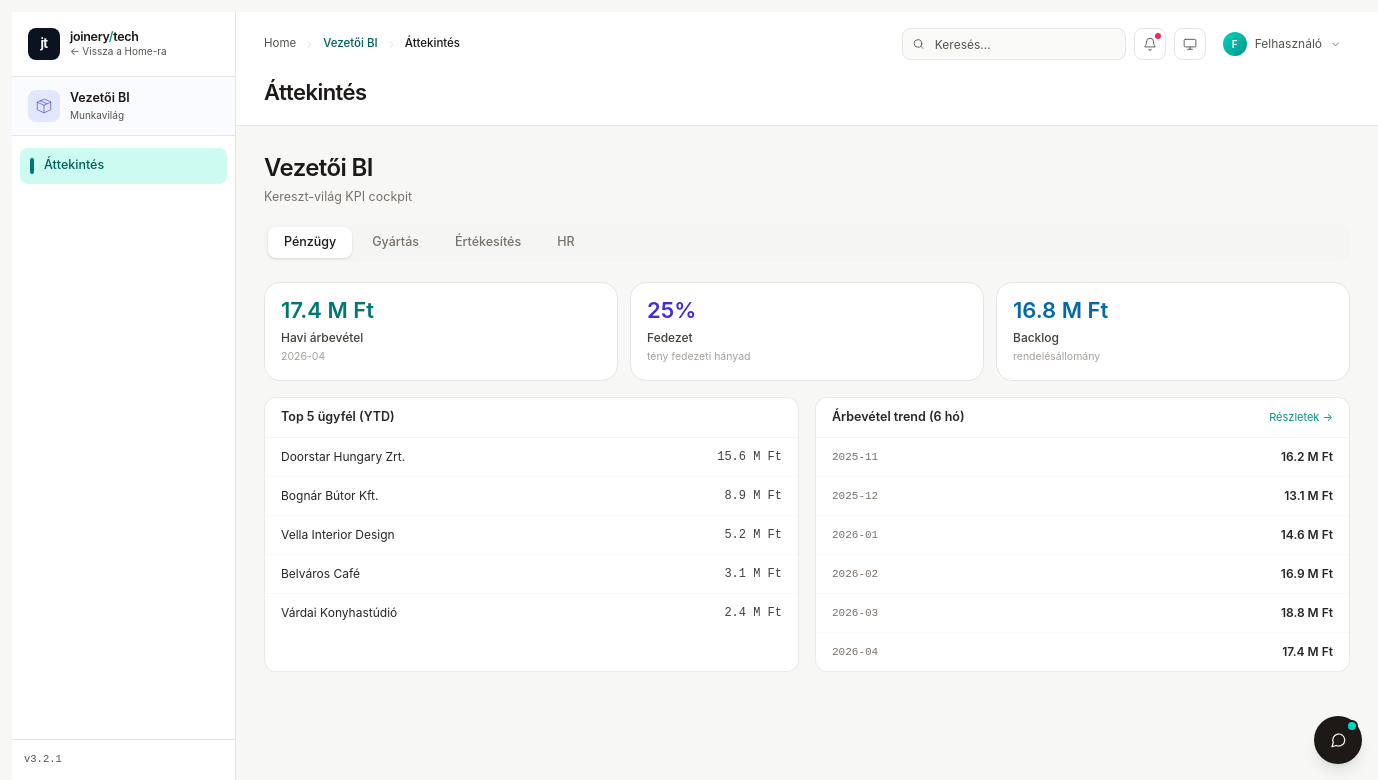
Scenario: ExecBiPage › clicking production tab renders production content
Click the button "Gyártás". click: (396, 242)
box: [356,227,435,258]
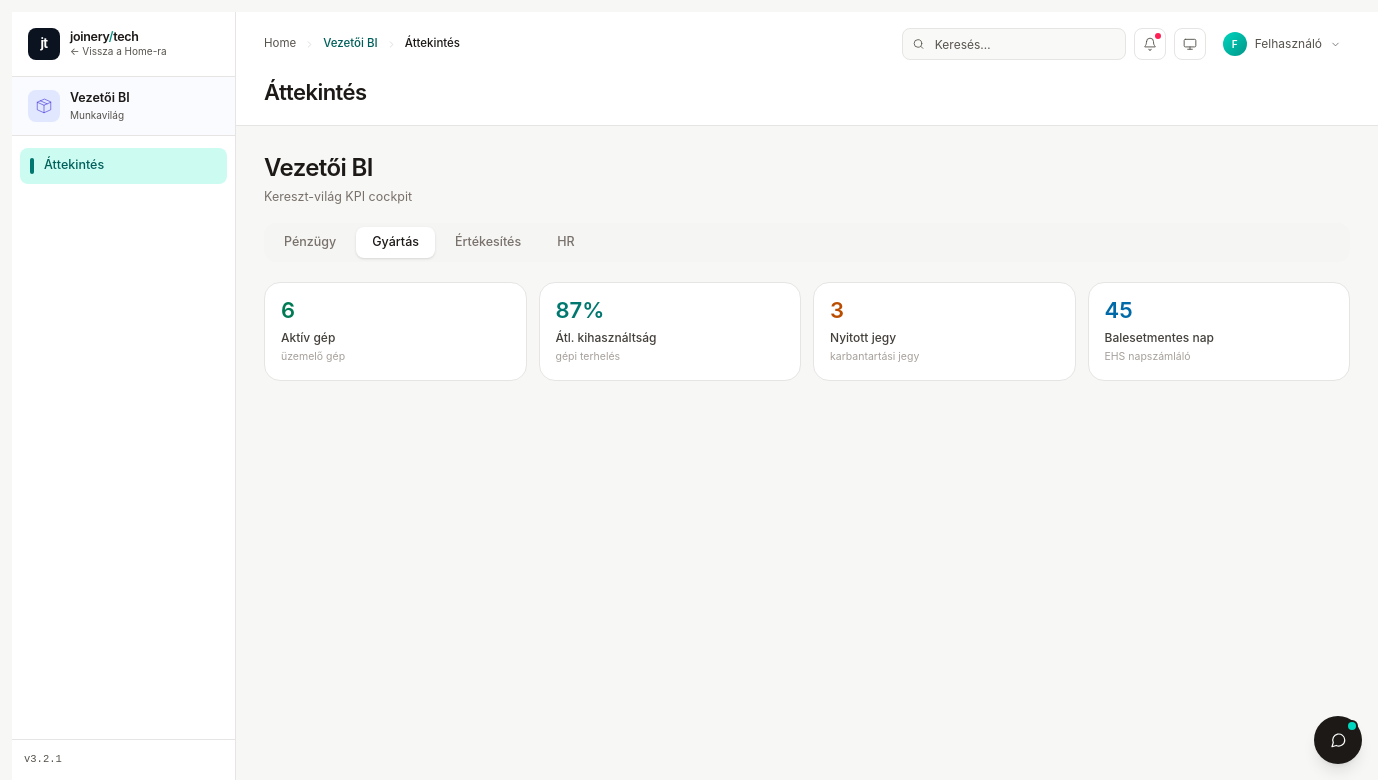
Check: the text "Aktív gép" is shown, box [281,330,335,344]
